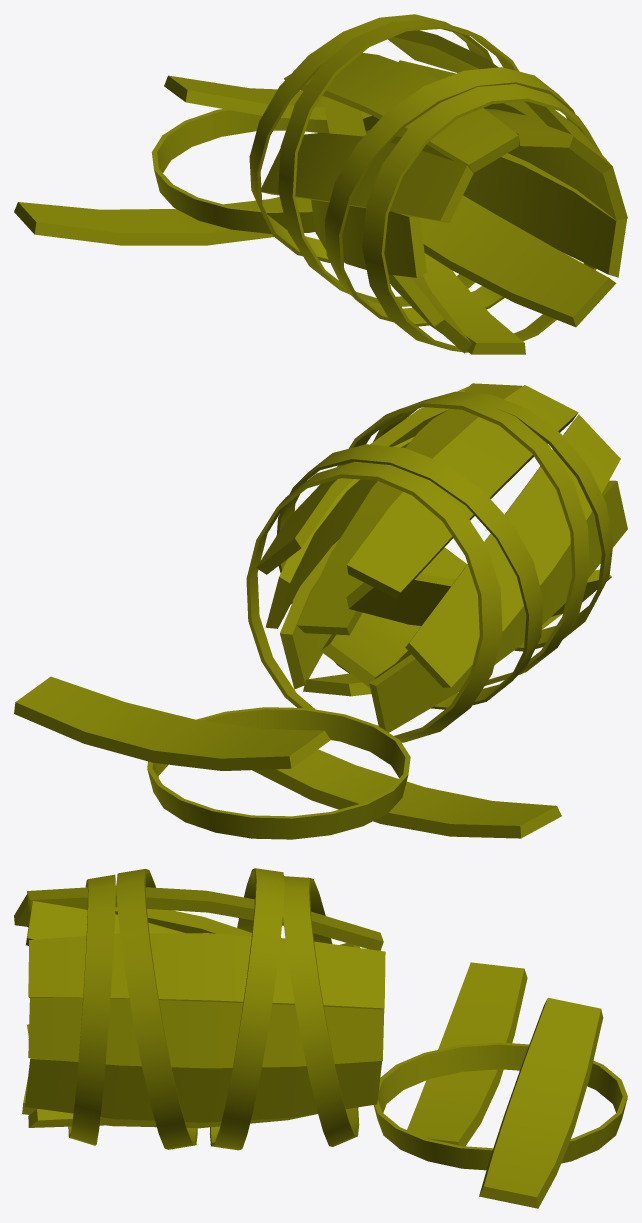
Rendered from WoodenBarrel_Broken_v1.fbx.
3 renders of one model, top to bottom at view 1: azimuth 30°, elevation 25°; view 2: azimuth 150°, elevation 25°; view 3: azimuth 270°, elevation 25°, orthographic. The views are drawn at different scales.
Parts seen in each view (by area): view 1: WoodenBarrel_Broken_v1_LOD0; view 2: WoodenBarrel_Broken_v1_LOD0; view 3: WoodenBarrel_Broken_v1_LOD0.
Boxes of the visible parts, bbox=[...] form: WoodenBarrel_Broken_v1_LOD0: bbox=[14, 14, 627, 354]; WoodenBarrel_Broken_v1_LOD0: bbox=[14, 383, 627, 839]; WoodenBarrel_Broken_v1_LOD0: bbox=[14, 868, 627, 1208].
Size of what is drawn, in the model's own units: 19.23 by 9.56 by 20.64.
